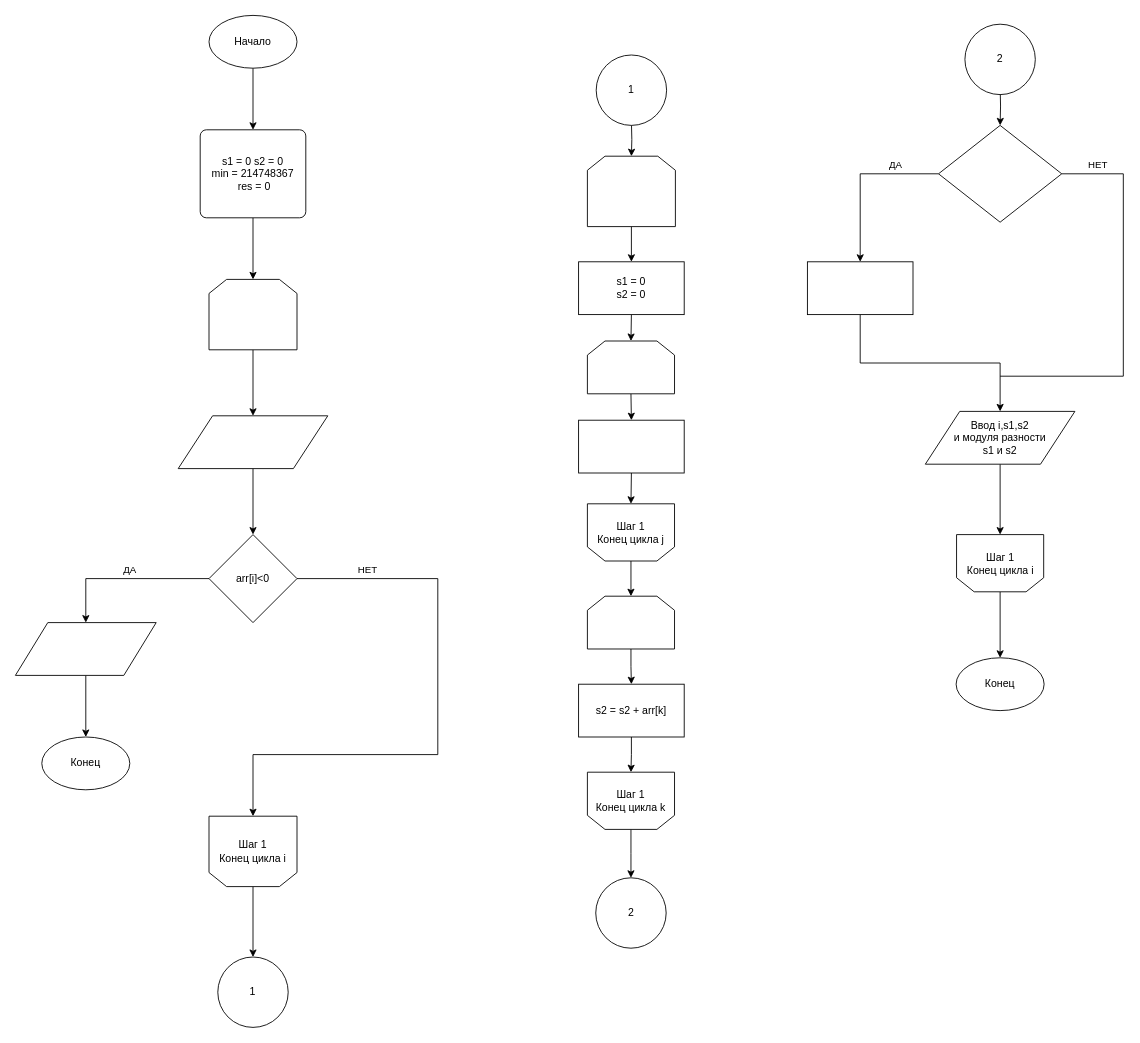
Image size: 1140x1043. Some labels were removed from this diagram. Here are the shapes that lost their labels. From the top down, the centre of each, then its label:
(x=631, y=191): Цикл i от 1 до N-1
(x=860, y=288): res = i
(x=252, y=314): Цикл i от 0 до N
(x=631, y=367): Цикл j от 0 до i
(x=252, y=442): Ввод arr[i]
(x=631, y=446): s1 = s1 + arr[j]
(x=631, y=622): Цикл k от i+1 до N
(x=85, y=648): Вывод сообщения
